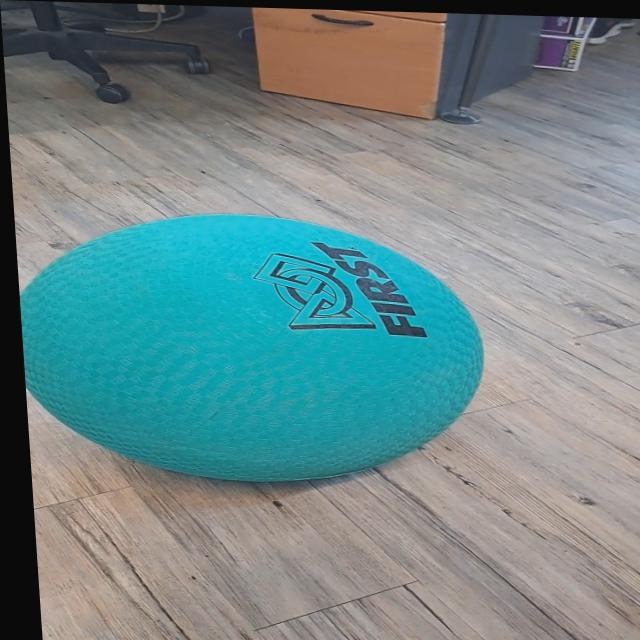ALGAE: (15, 206, 495, 490)
